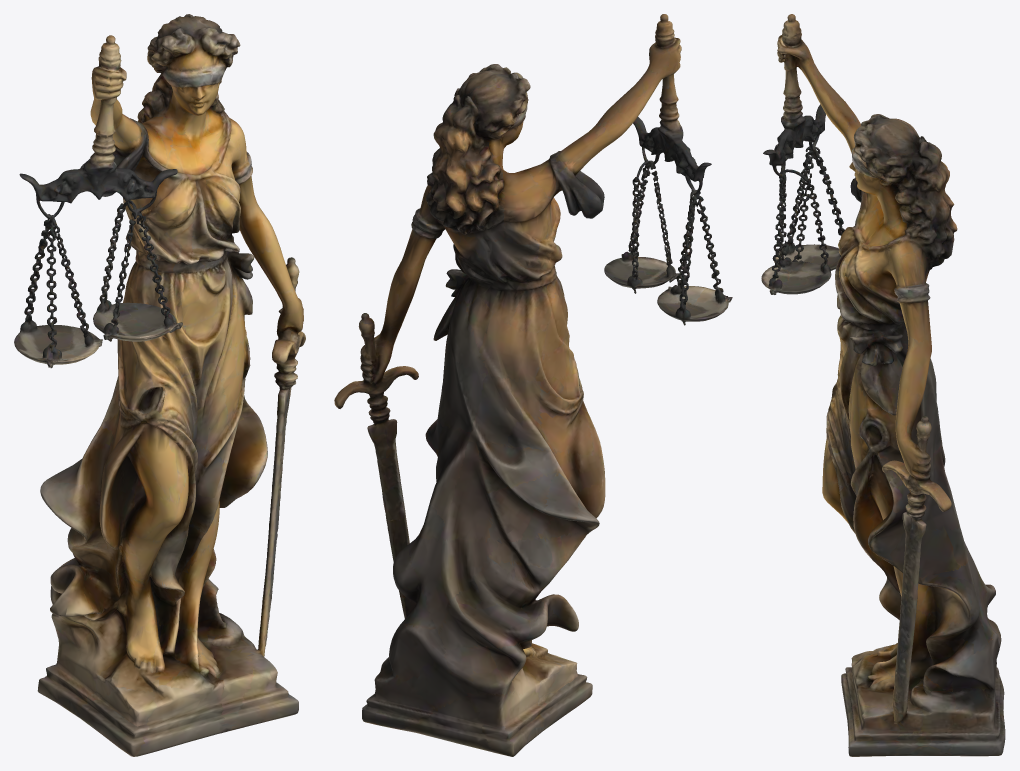
The model's file is themis.glb.
The picture shows the model from 3 angles, left to right: view 1: azimuth 30°, elevation 25°; view 2: azimuth 150°, elevation 25°; view 3: azimuth 270°, elevation 25°; orthographic projection. The views are drawn at different scales.
Visible parts, largest first — view 1: Object_5; view 2: Object_5; view 3: Object_5.
Boxes of the visible parts, <box> form: Object_5: <box>14,14,305,756</box>; Object_5: <box>334,14,732,756</box>; Object_5: <box>761,14,1005,756</box>.
Size of the model in its own units: 0.994 by 2 by 0.679.
Materials: 1 (1 with a texture image).
